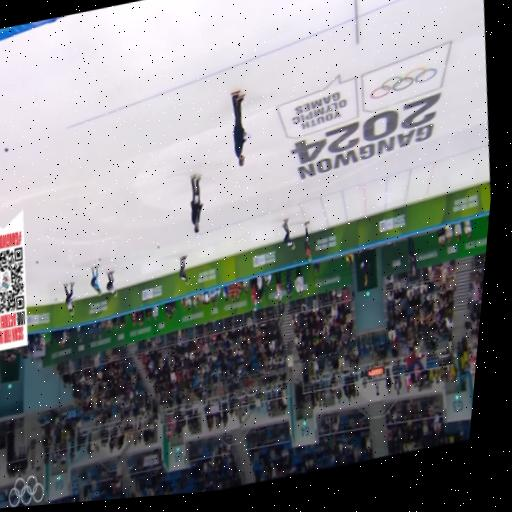Skater: (282, 219, 294, 249), (63, 282, 73, 314), (90, 266, 101, 295), (178, 255, 188, 284), (106, 271, 116, 295), (304, 221, 310, 260)
